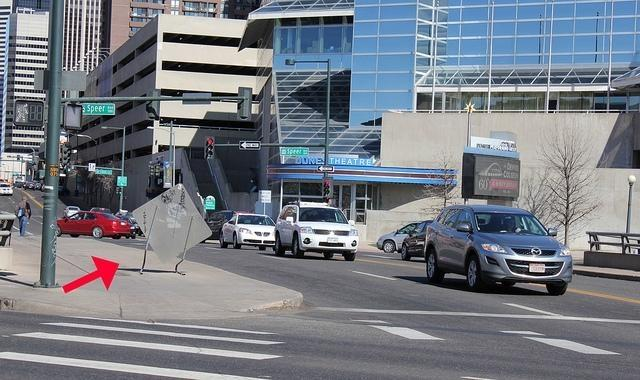car: (424, 205, 571, 296), (272, 201, 360, 262), (219, 213, 277, 253), (56, 210, 132, 239), (204, 209, 254, 240), (377, 222, 422, 254), (402, 222, 432, 260), (123, 213, 142, 236), (0, 182, 15, 196), (62, 207, 81, 218), (35, 183, 41, 189)
